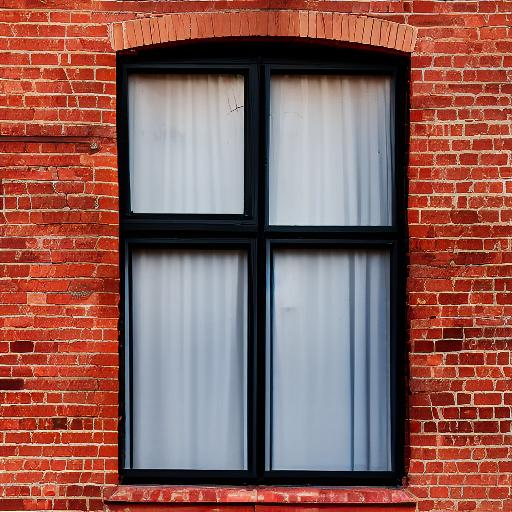Window: (104, 13, 419, 505)
